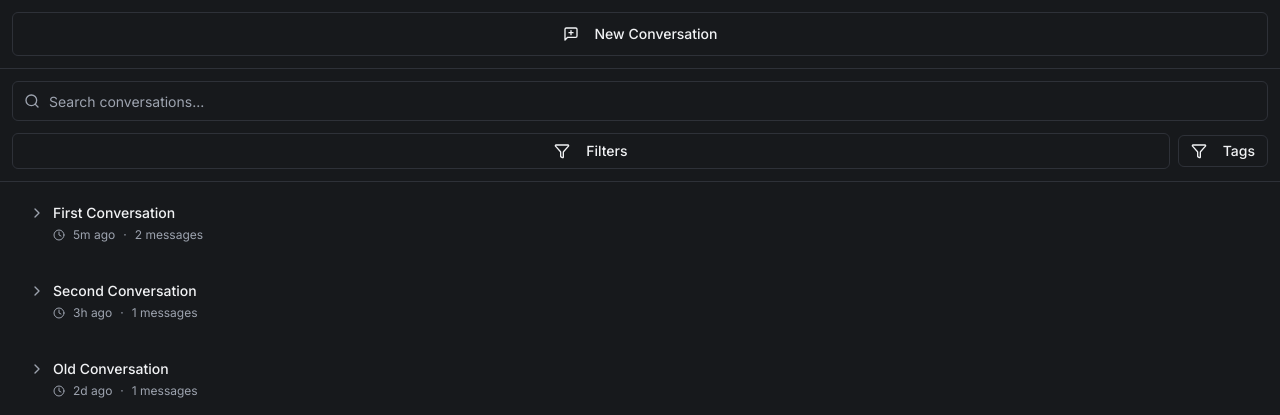
Test case: ConversationHistory › Search functionality › should clear search when clear button clicked
The image size is (1280, 415).
In the field with placeholder "Search conversations...": x=640, y=101 [12,81,1268,121], type "First"
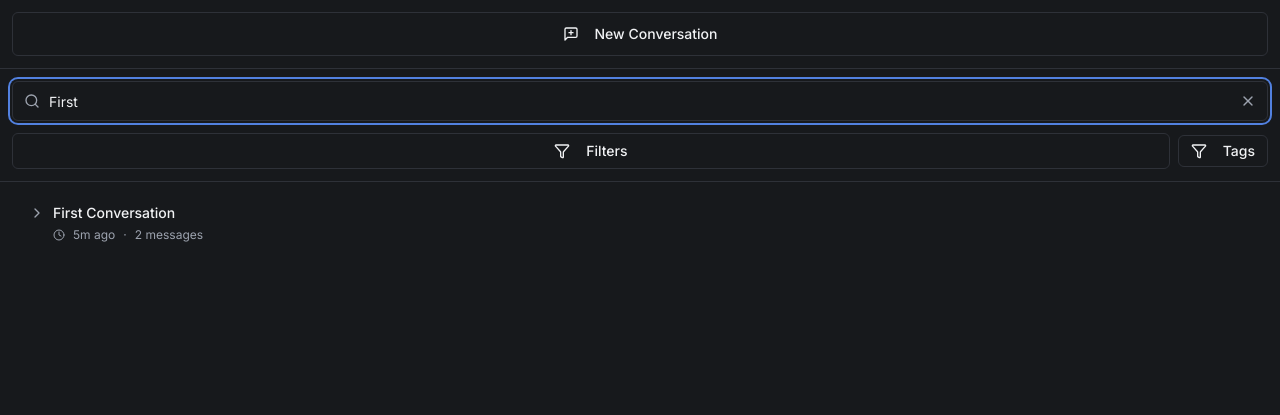
Expected: the button "Second Conversation" is gone
# Click clear button
Click the button named "clear search": x=1248, y=101 [1240,93,1256,109]
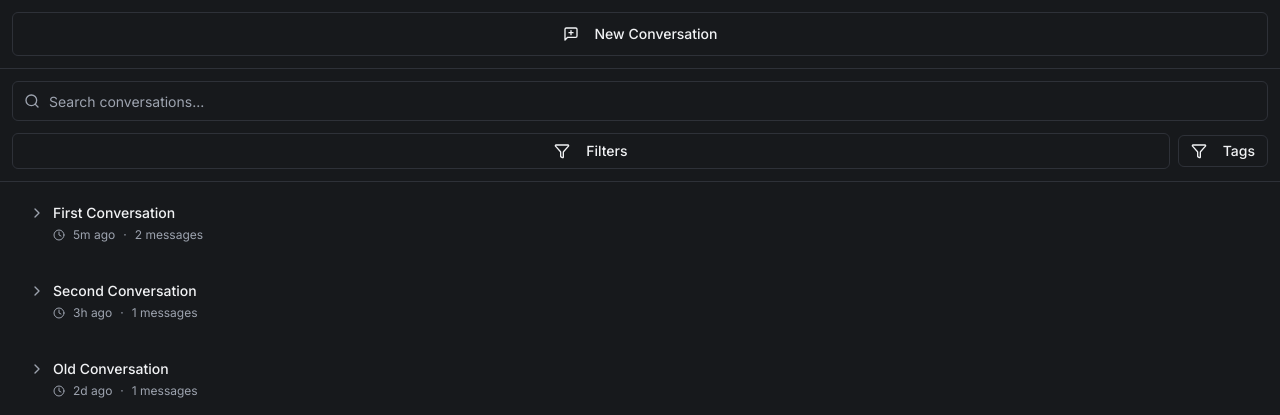
Expected: the text "First Conversation" is shown, [53,204,175,221]
Expected: the text "Second Conversation" is shown, [53,282,197,299]
